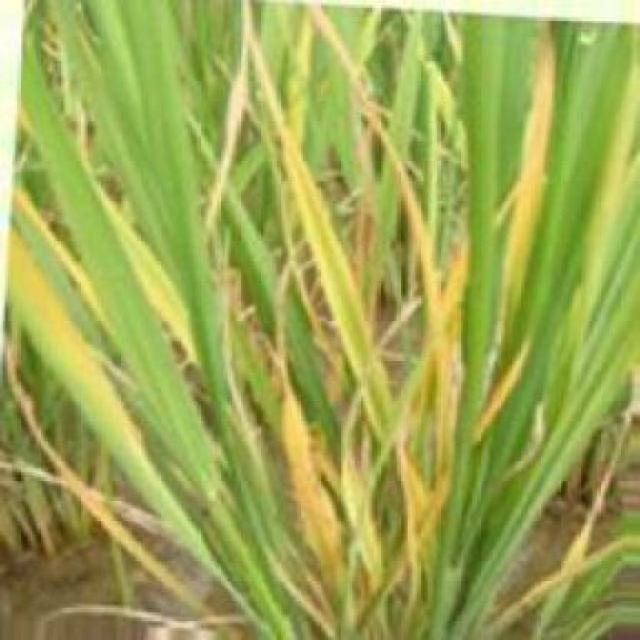Rice Tungro: (237, 65, 452, 608), (15, 233, 210, 558), (72, 152, 231, 385), (265, 347, 360, 636), (490, 25, 570, 308), (527, 459, 625, 638), (460, 332, 540, 468), (315, 10, 368, 70)
